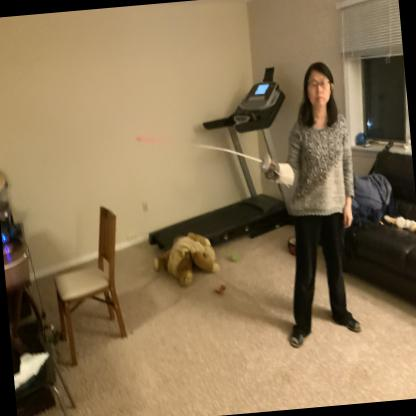foil-tip: (124, 132, 155, 151)
hand-and-foil: (118, 117, 297, 201)
